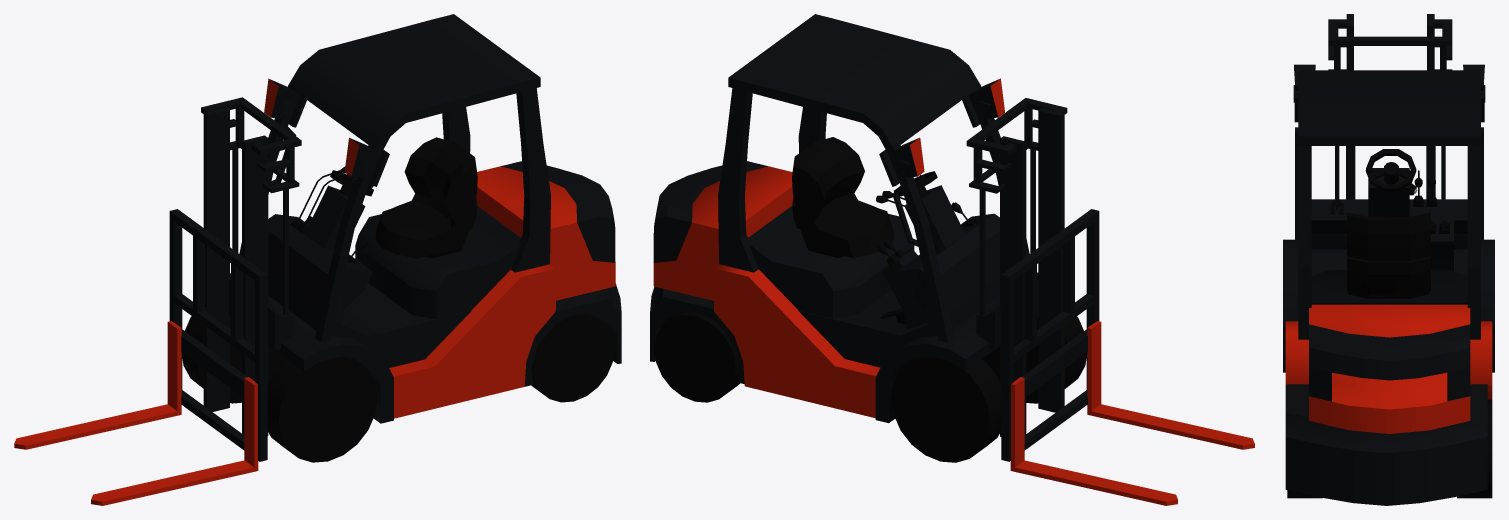
Rendered from forklift01.FBX.
The picture shows the model from 3 angles, left to right: view 1: azimuth 30°, elevation 25°; view 2: azimuth 150°, elevation 25°; view 3: azimuth 270°, elevation 25°; orthographic projection. The views are drawn at different scales.
Visible parts, largest first — view 1: Box017, Box007, Box021, Box004, Box001, Box022, Cone001, Box023, Box018, Cone003, Box016, Box003 (+11 smaller); view 2: Box017, Box007, Box004, Box001, Box021, Cone002, Box022, Box023, Box018, Cone004, Box016, Box002 (+11 smaller); view 3: Box017, Box019, Box018, Box020, Box023, Box021, Box022, Box016, Box007, Box009, Box004, Box120 (+7 smaller).
Part boxes in pixels (left/top/right/bottom): Box017: left=239, top=14, right=550, bottom=342; Box007: left=389, top=264, right=555, bottom=418; Box021: left=268, top=214, right=471, bottom=367; Box004: left=203, top=107, right=268, bottom=435; Box001: left=169, top=209, right=267, bottom=461; Box022: left=355, top=206, right=521, bottom=319; Cone001: left=267, top=356, right=377, bottom=462; Box023: left=375, top=137, right=477, bottom=258; Box018: left=476, top=166, right=615, bottom=300; Cone003: left=531, top=313, right=614, bottom=402; Box016: left=230, top=273, right=393, bottom=423; Box003: left=14, top=321, right=181, bottom=449; Box017: left=718, top=14, right=1029, bottom=342; Box007: left=713, top=264, right=880, bottom=418; Box004: left=1000, top=108, right=1064, bottom=436; Box001: left=1001, top=209, right=1099, bottom=461; Box021: left=798, top=213, right=999, bottom=367; Cone002: left=891, top=355, right=1001, bottom=462; Box022: left=748, top=206, right=914, bottom=318; Box023: left=792, top=137, right=893, bottom=258; Box018: left=653, top=166, right=793, bottom=300; Cone004: left=654, top=311, right=740, bottom=402; Box016: left=875, top=272, right=1038, bottom=423; Box002: left=1087, top=321, right=1254, bottom=449; Box017: left=1298, top=70, right=1480, bottom=339; Box019: left=1285, top=384, right=1487, bottom=505; Box018: left=1309, top=304, right=1470, bottom=433; Box020: left=1309, top=324, right=1470, bottom=401; Box023: left=1347, top=212, right=1430, bottom=298; Box021: left=1311, top=199, right=1467, bottom=275; Box022: left=1311, top=270, right=1467, bottom=304; Box016: left=1283, top=239, right=1494, bottom=372; Box007: left=1285, top=321, right=1492, bottom=399; Box009: left=1328, top=19, right=1452, bottom=45; Box004: left=1346, top=14, right=1434, bottom=199; Box120: left=1368, top=168, right=1409, bottom=216.
Size of the model in its own units: 146 by 82.67 by 46.21.
